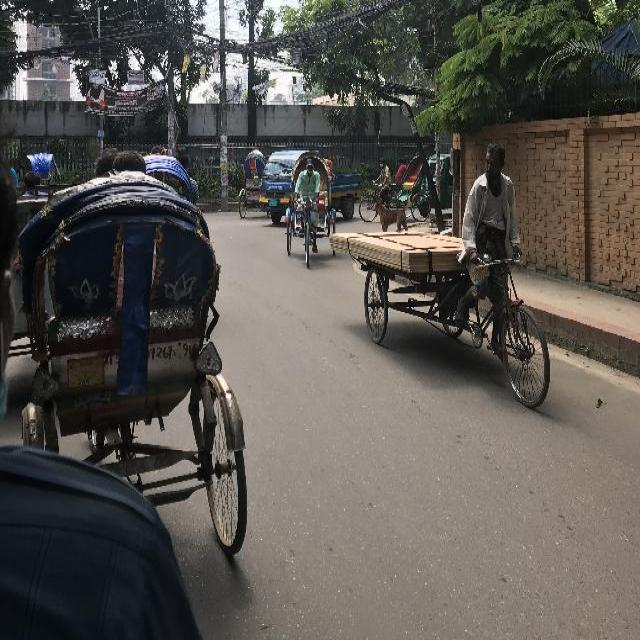pickup: (261, 148, 359, 222)
rickshaw: (21, 186, 247, 555), (286, 154, 334, 270), (359, 154, 428, 220), (146, 155, 198, 211), (1, 146, 57, 198), (238, 149, 264, 215)
three wheelers -CNG-: (420, 150, 456, 218)
